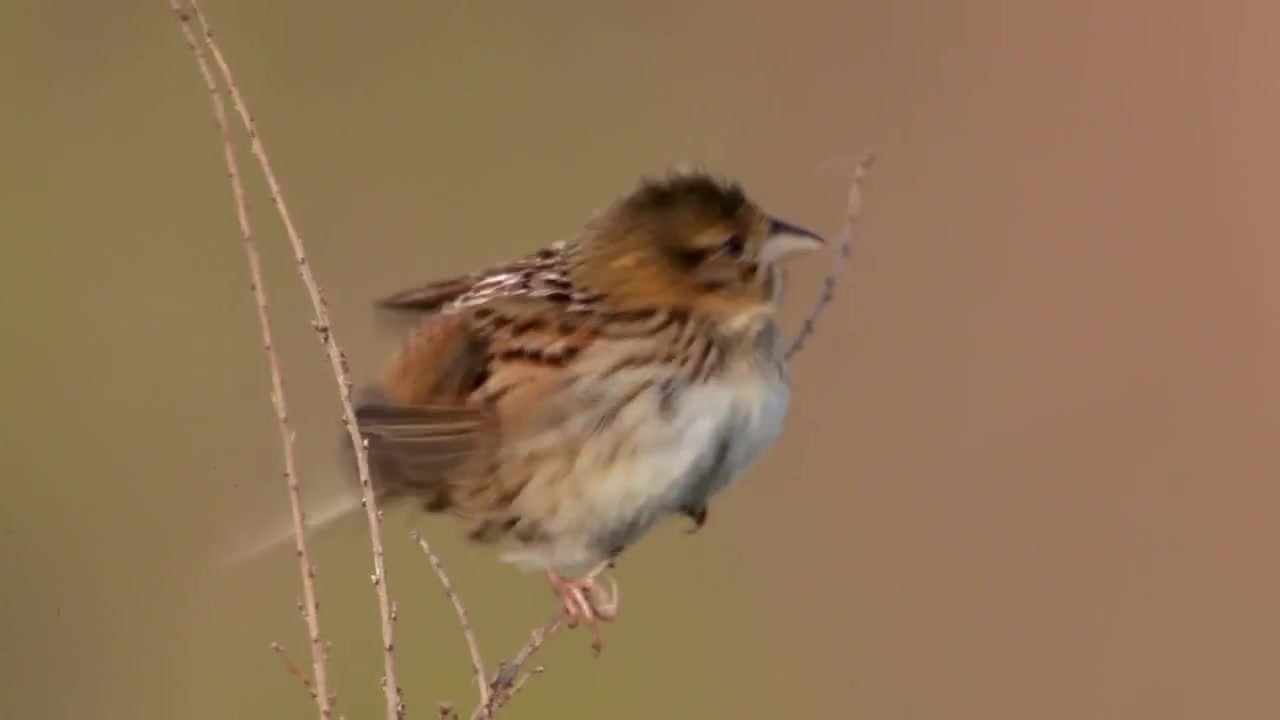bird: (218, 163, 830, 661)
